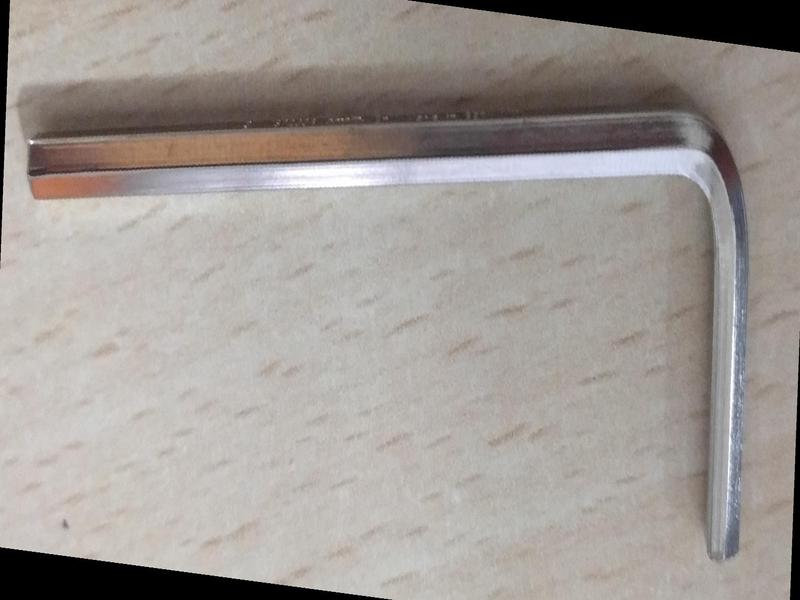turner: (26, 89, 758, 569)
